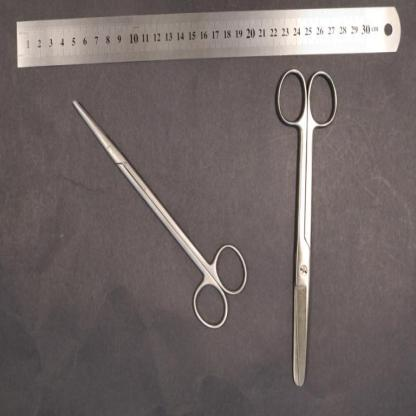7 Metzenbaum Scissors: (72, 99, 249, 332)
Dressing Scissors: (273, 66, 340, 386)
